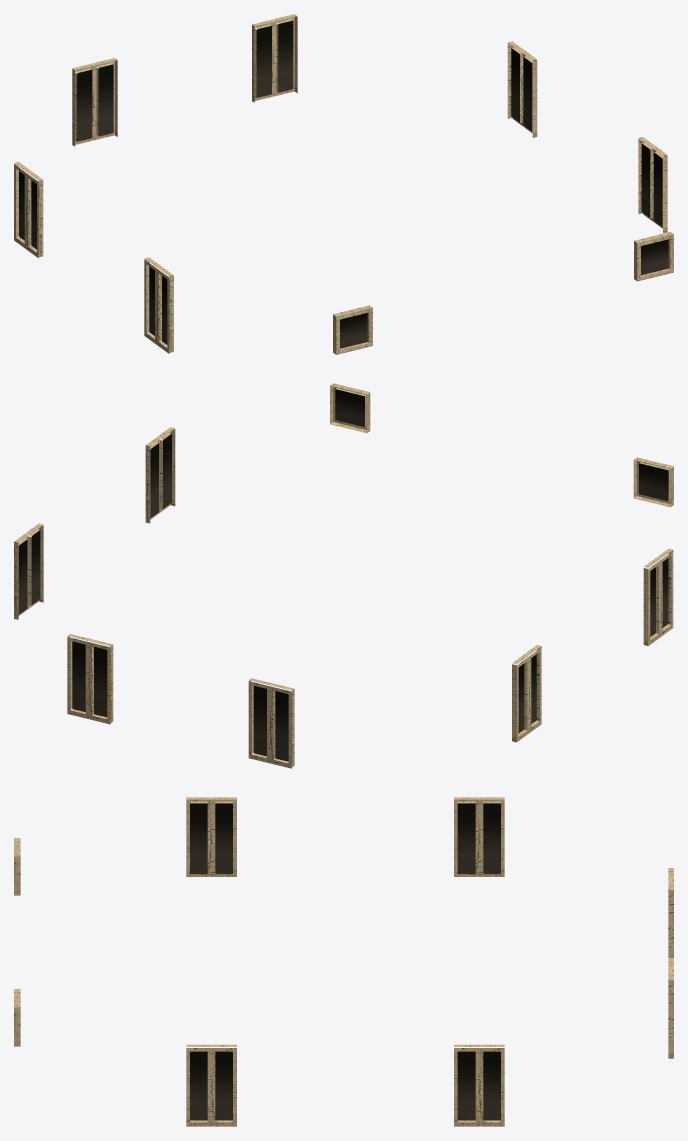
File: kart_fortress_windows.dae
The picture shows the model from 3 angles, top to bottom: view 1: azimuth 30°, elevation 25°; view 2: azimuth 150°, elevation 25°; view 3: azimuth 270°, elevation 25°; orthographic projection. The views are drawn at different scales.
Parts seen in each view (by area): view 1: fortress_windows; view 2: fortress_windows; view 3: fortress_windows.
Part boxes in pixels (<box>): fortress_windows: <box>14,14,673,354</box>; fortress_windows: <box>14,383,673,768</box>; fortress_windows: <box>14,797,673,1126</box>.
Size of the model in its own units: 21.87 by 24.42 by 3.29.
